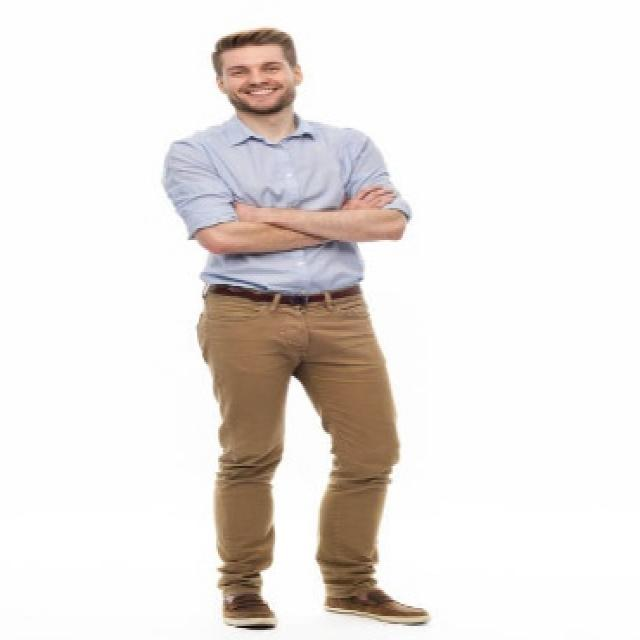adult: (193, 26, 410, 628)
